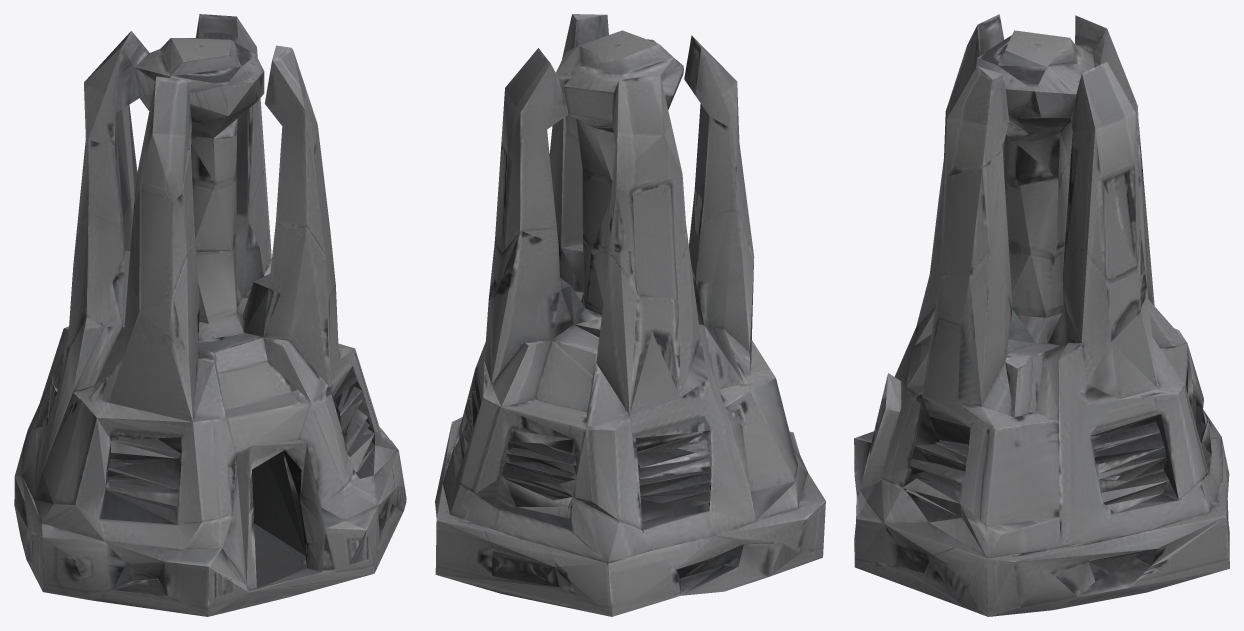
File: shared_planetary_shield_pylon_lod2.glb
The picture shows the model from 3 angles, left to right: view 1: azimuth 30°, elevation 25°; view 2: azimuth 150°, elevation 25°; view 3: azimuth 270°, elevation 25°; orthographic projection.
Parts seen in each view (by area): view 1: mesh_node; view 2: mesh_node; view 3: mesh_node.
Boxes of the visible parts, x1,y1,x2,y2 form: mesh_node: (14,14,406,616); mesh_node: (435,14,825,616); mesh_node: (854,14,1229,616).
Bounding box in the file's own units: 10.21 × 13.01 × 9.11.
1 material, 1 textured.
